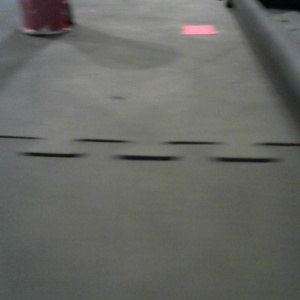Middle: (17, 1, 75, 34)
